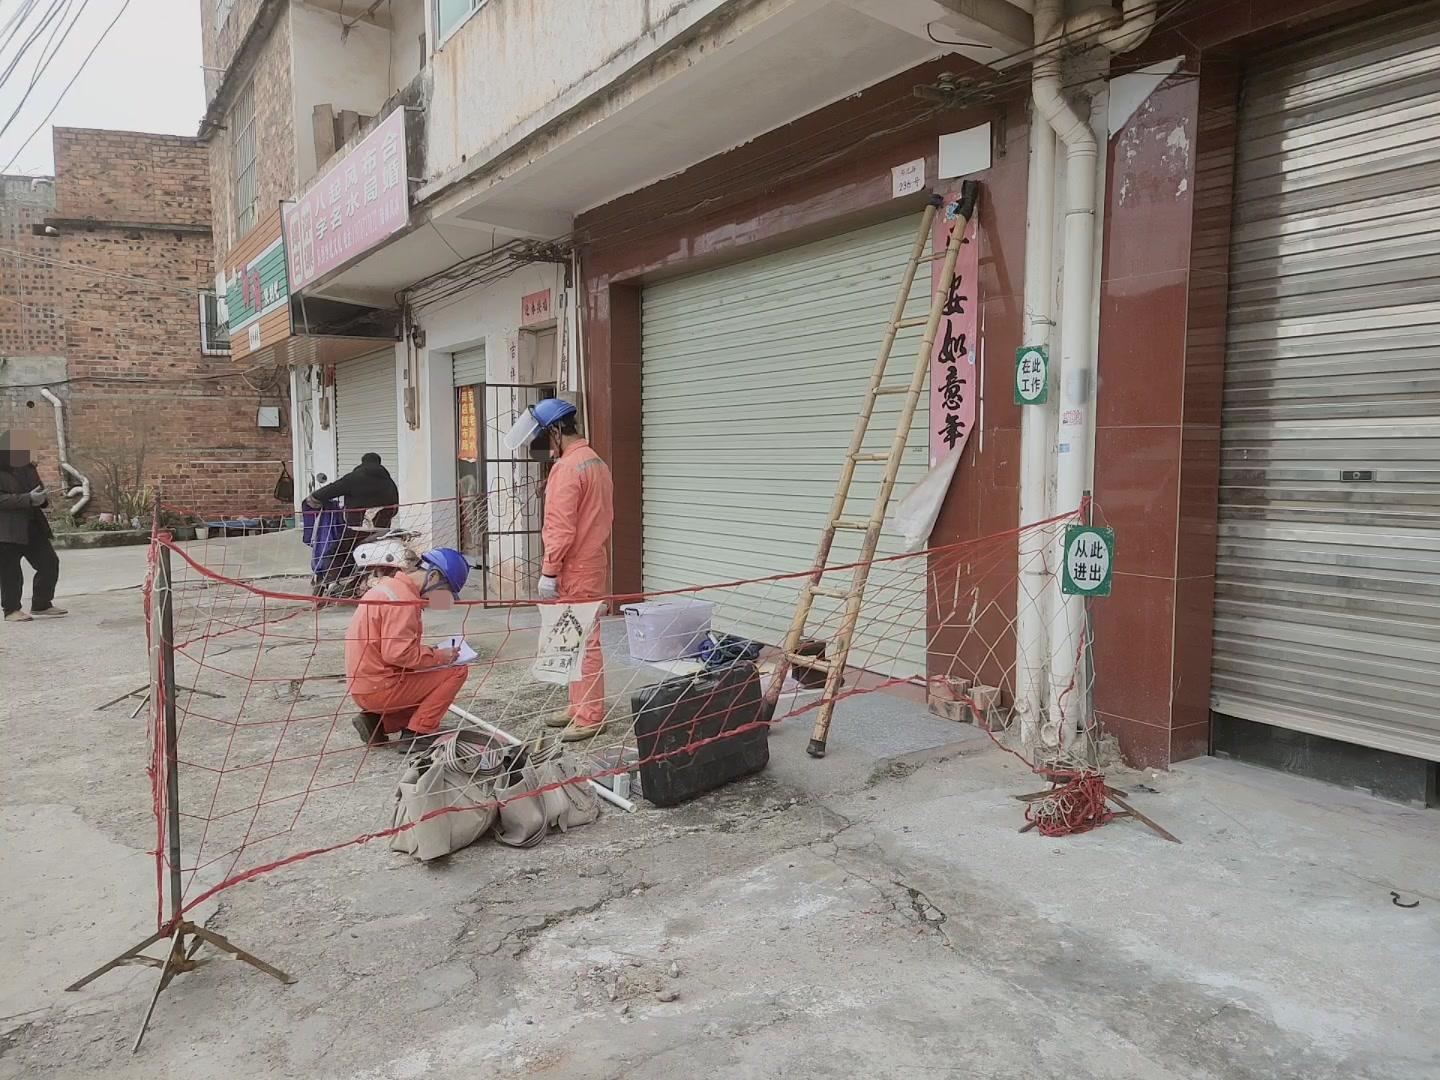halt: (532, 399, 584, 452), (420, 550, 474, 600)
inear: (420, 568, 449, 597), (547, 424, 568, 450)
unhalt: (5, 432, 36, 462)
